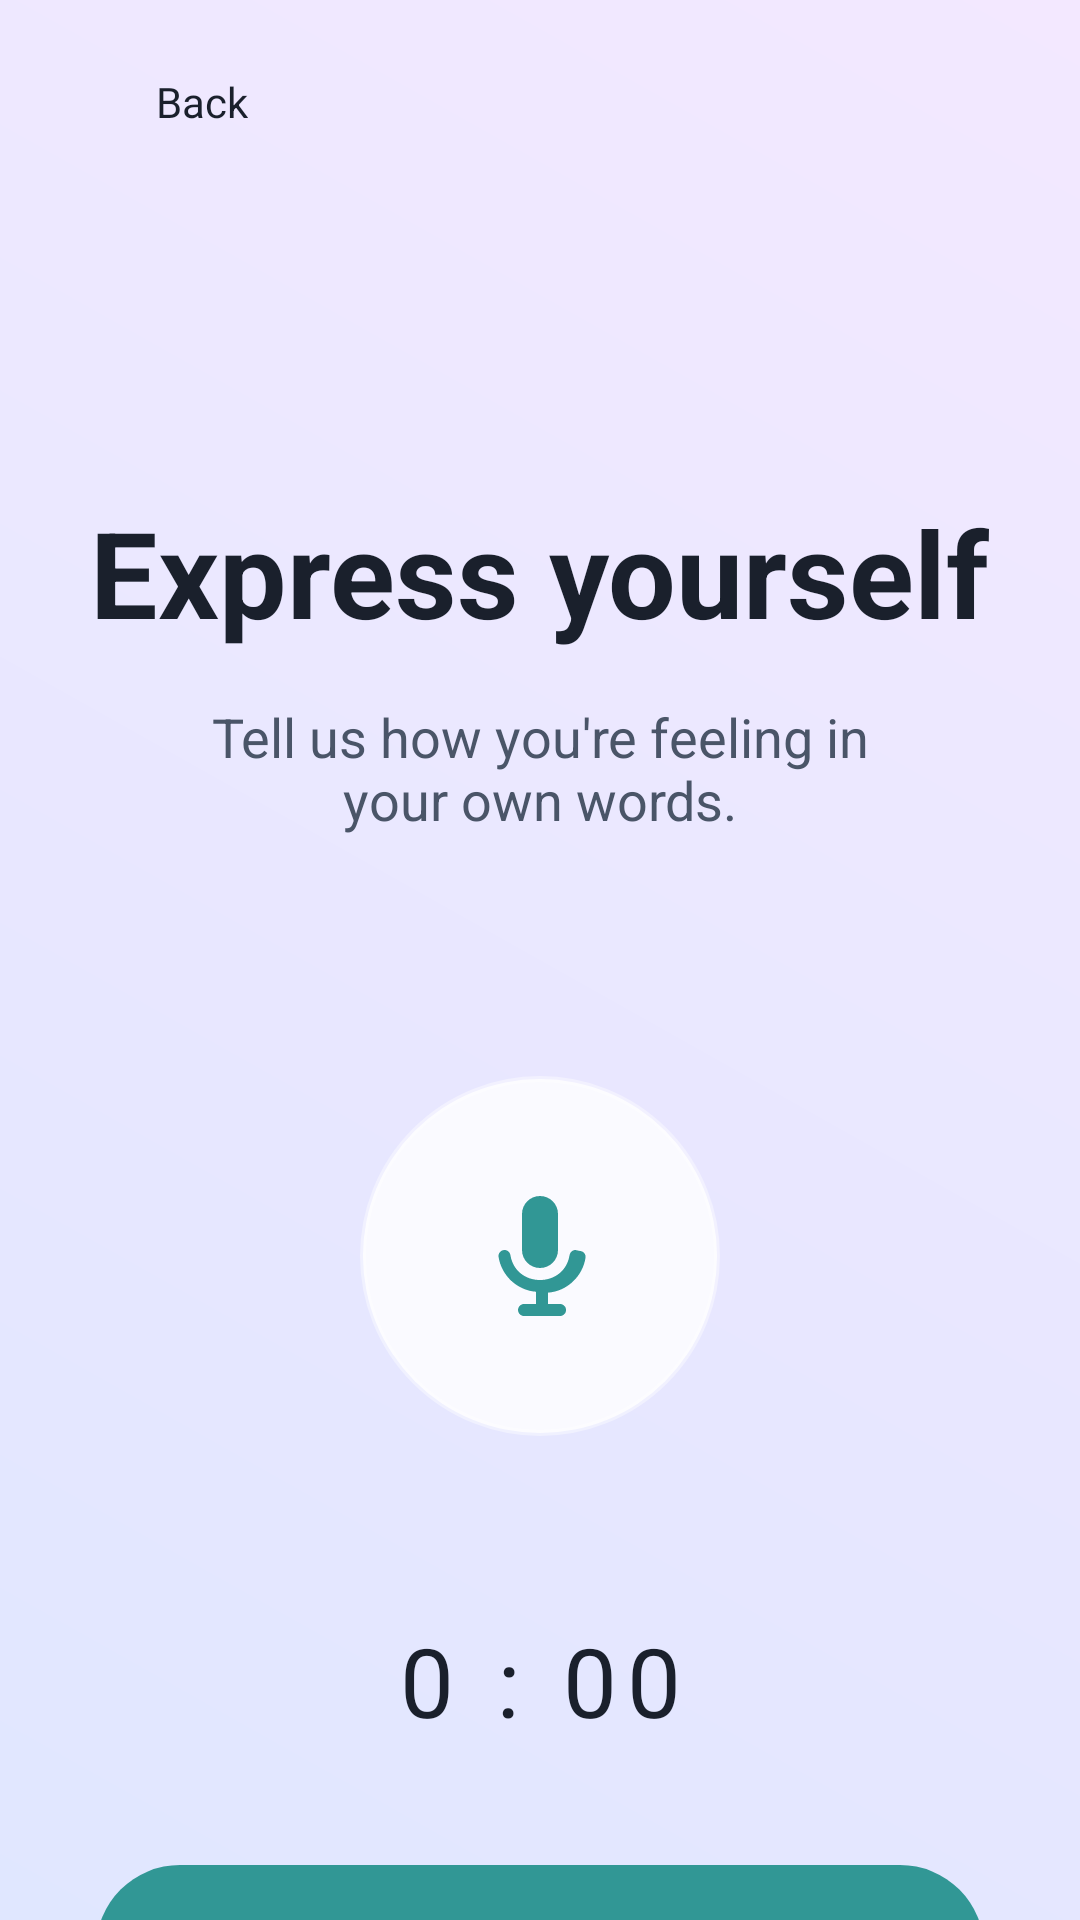

Screen size 1080px×1920px. Icon name, then its center in pixels as (x,y):
mic: (542,1256)
